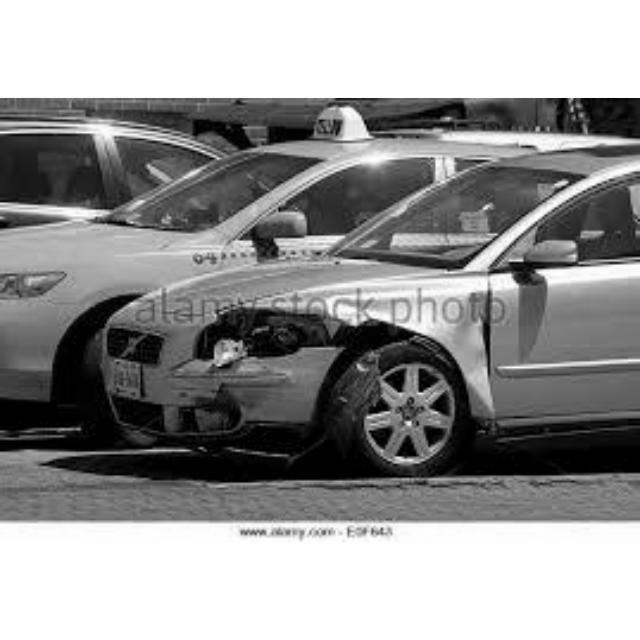Headlight-damage: (177, 277, 326, 376)
fender-dent: (281, 286, 485, 374)
front-bumper-dent: (125, 346, 312, 436)
